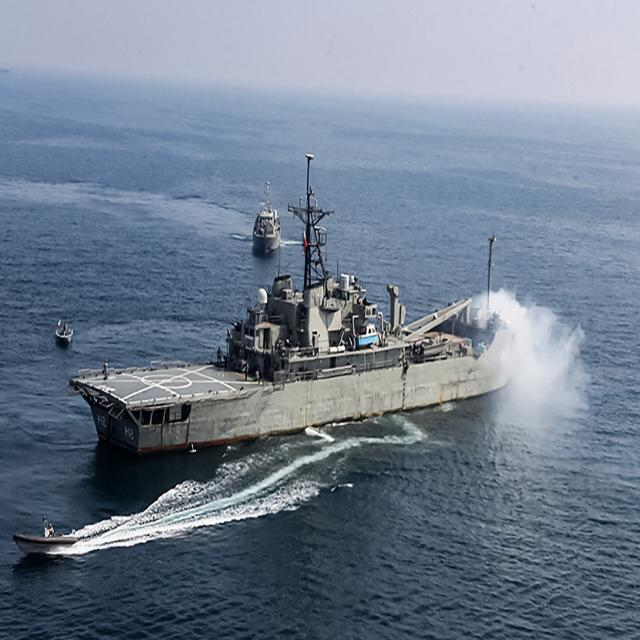navalvessels: (83, 233, 515, 494), (252, 193, 299, 265)
